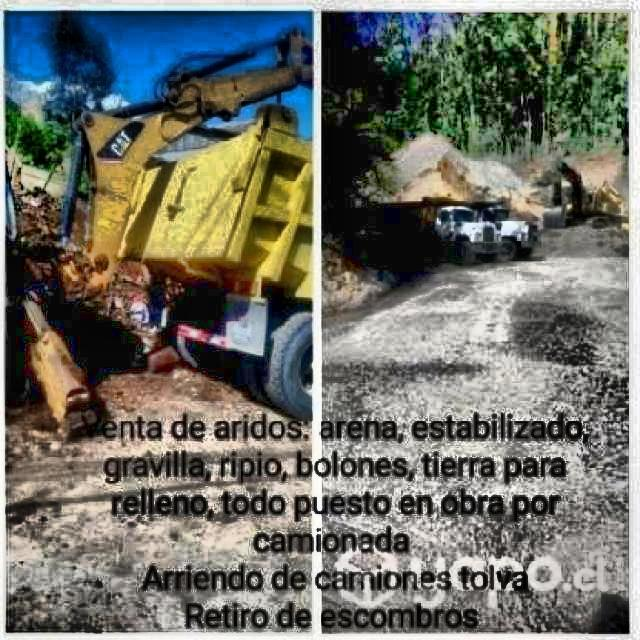dump_truck: (336, 187, 547, 276)
